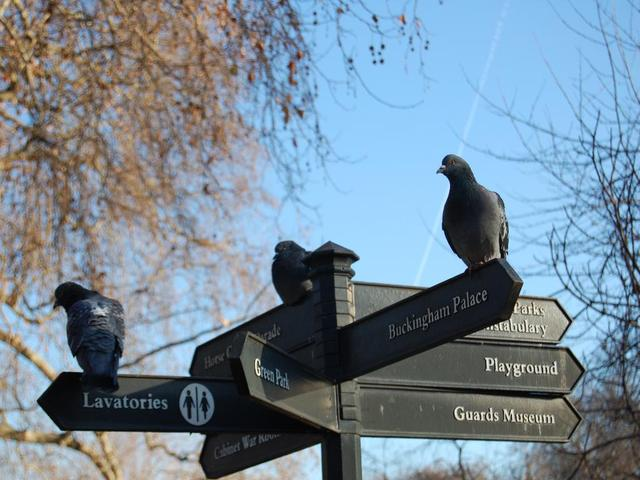bird: (421, 131, 519, 275), (44, 269, 133, 395), (258, 222, 328, 307)
